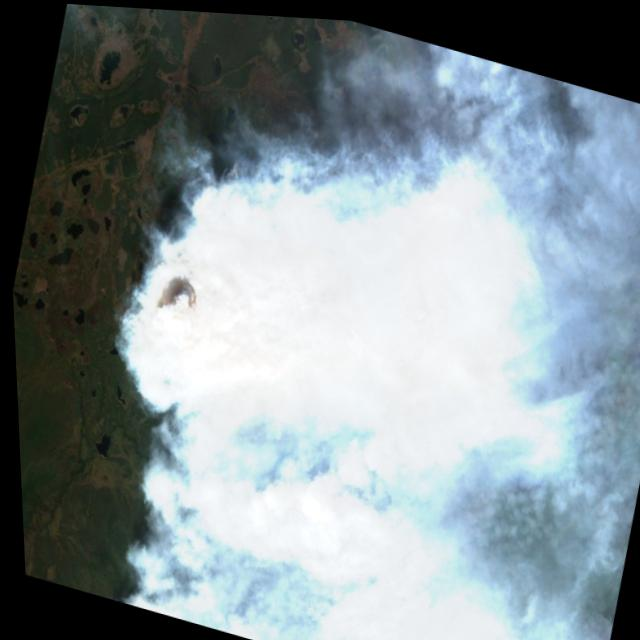fire: (90, 102, 506, 578)
